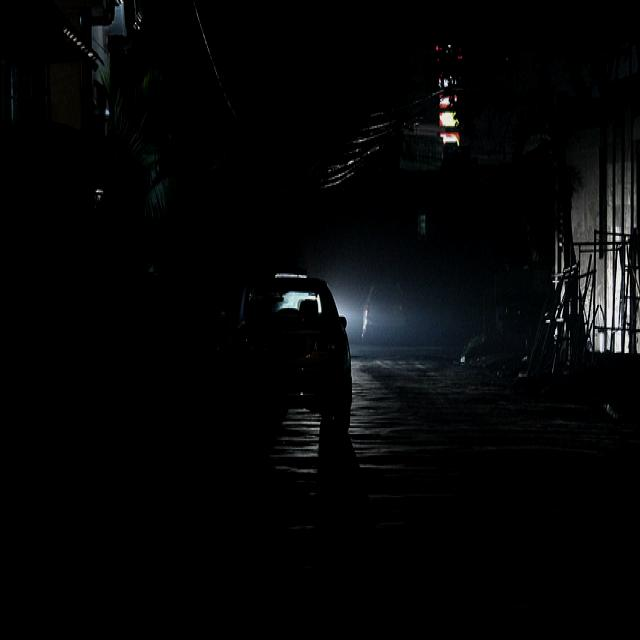Car: (217, 272, 357, 439)
